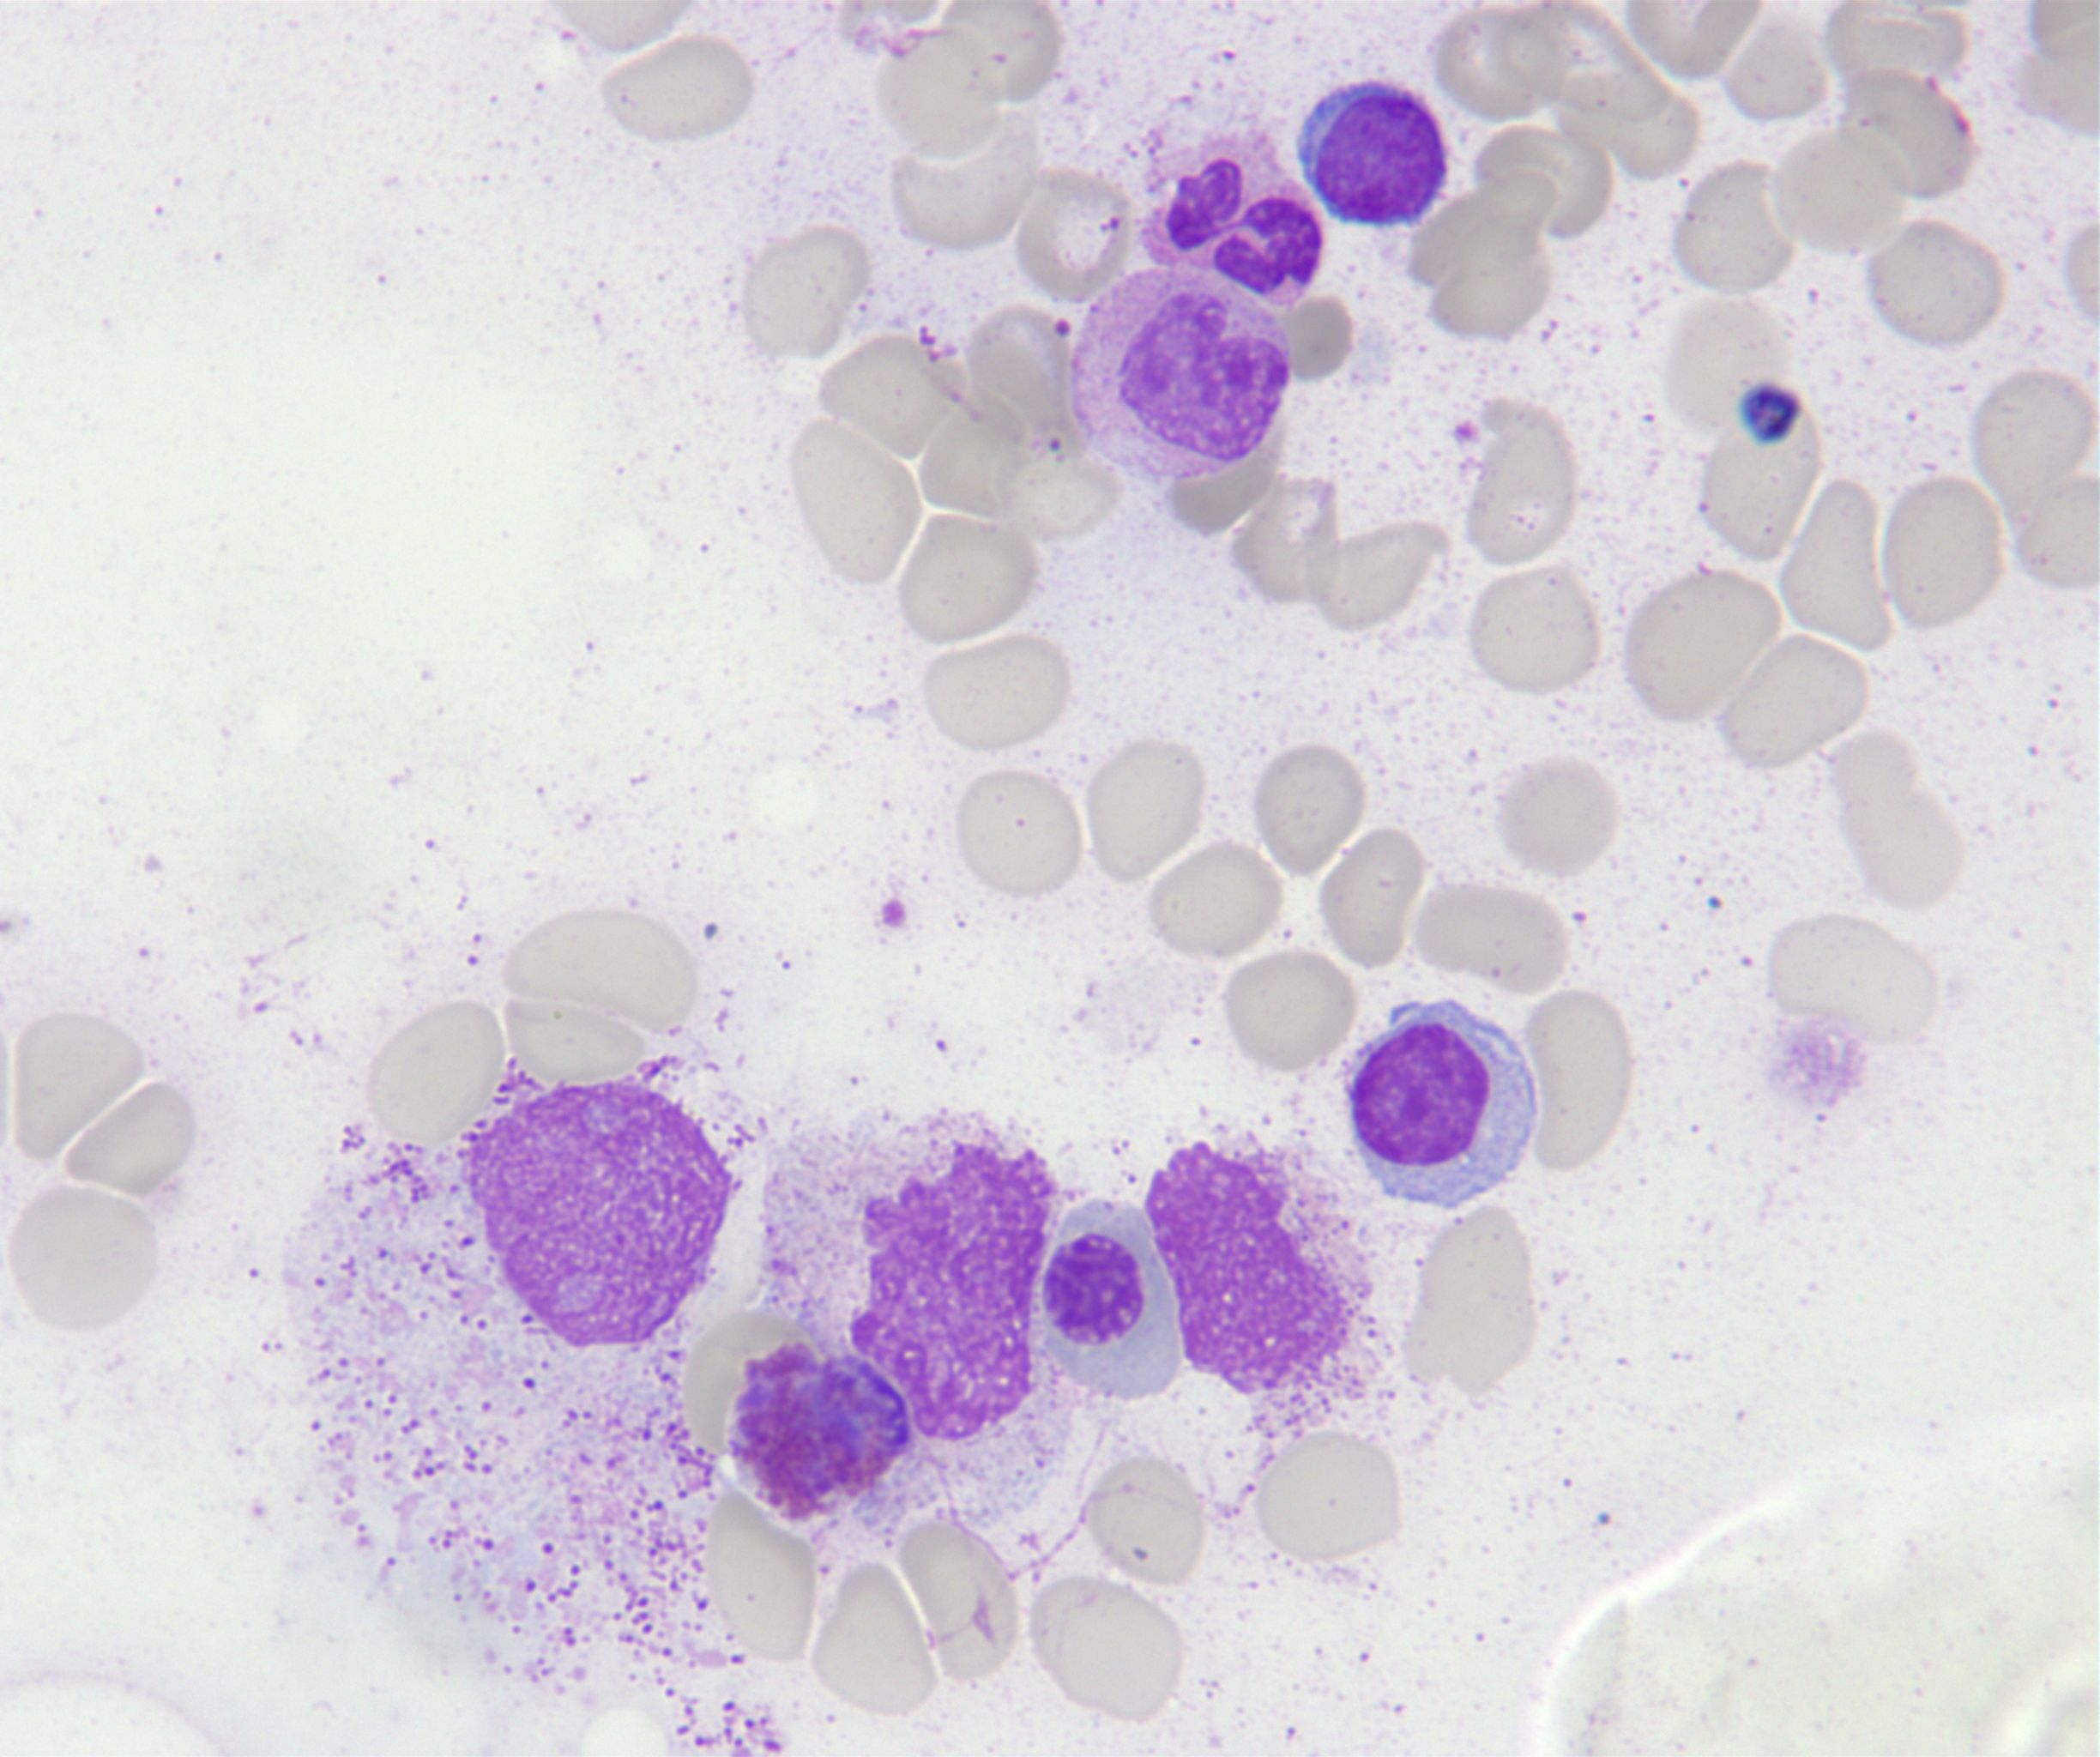24: (1034, 1199, 1184, 1403)
32: (1347, 998, 1535, 1206), (1299, 85, 1446, 227)
4: (1071, 265, 1289, 480)
6: (1137, 133, 1322, 309)
x: (288, 1077, 729, 1696), (764, 1111, 1064, 1528), (1146, 1143, 1395, 1452), (729, 1343, 914, 1527)
